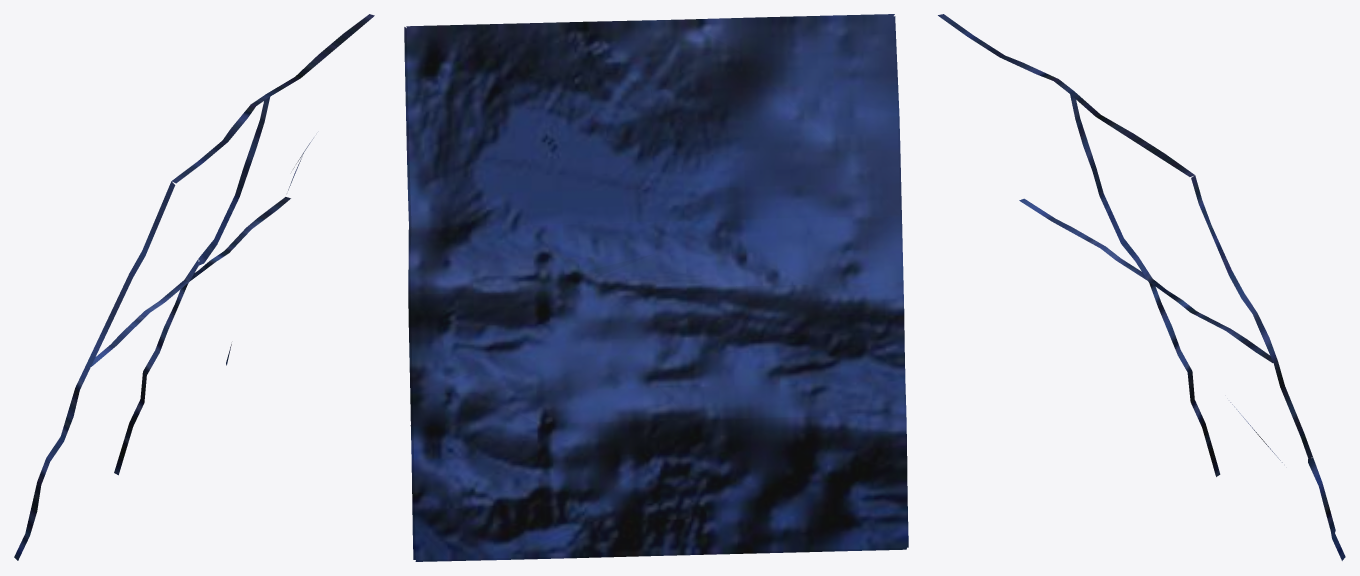
3 renders of one model, left to right at view 1: azimuth 30°, elevation 25°; view 2: azimuth 150°, elevation 25°; view 3: azimuth 270°, elevation 25°, orthographic. The views are drawn at different scales.
Size of the model in its own units: 76468 by 74277 by 64013.
Materials: 1 (1 with a texture image).
